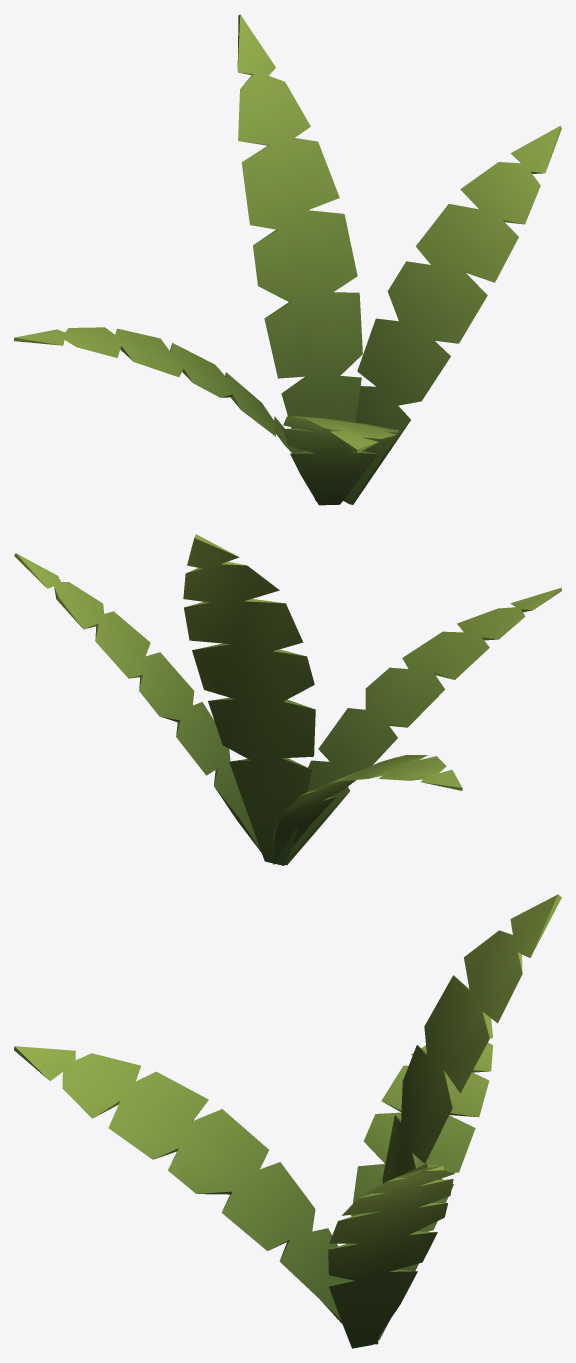
File: Plant_06.fbx
3 renders of one model, top to bottom at view 1: azimuth 30°, elevation 25°; view 2: azimuth 150°, elevation 25°; view 3: azimuth 270°, elevation 25°, orthographic. The views are drawn at different scales.
Visible parts, largest first — view 1: Plant_06_LOD0; view 2: Plant_06_LOD0; view 3: Plant_06_LOD0.
Boxes of the visible parts, left/top/right/bottom form: Plant_06_LOD0: left=14, top=14, right=561, bottom=505; Plant_06_LOD0: left=14, top=534, right=561, bottom=865; Plant_06_LOD0: left=14, top=894, right=561, bottom=1348.
Size of what is drawn, in the model's own units: 0.5776 by 0.4512 by 0.5013.
